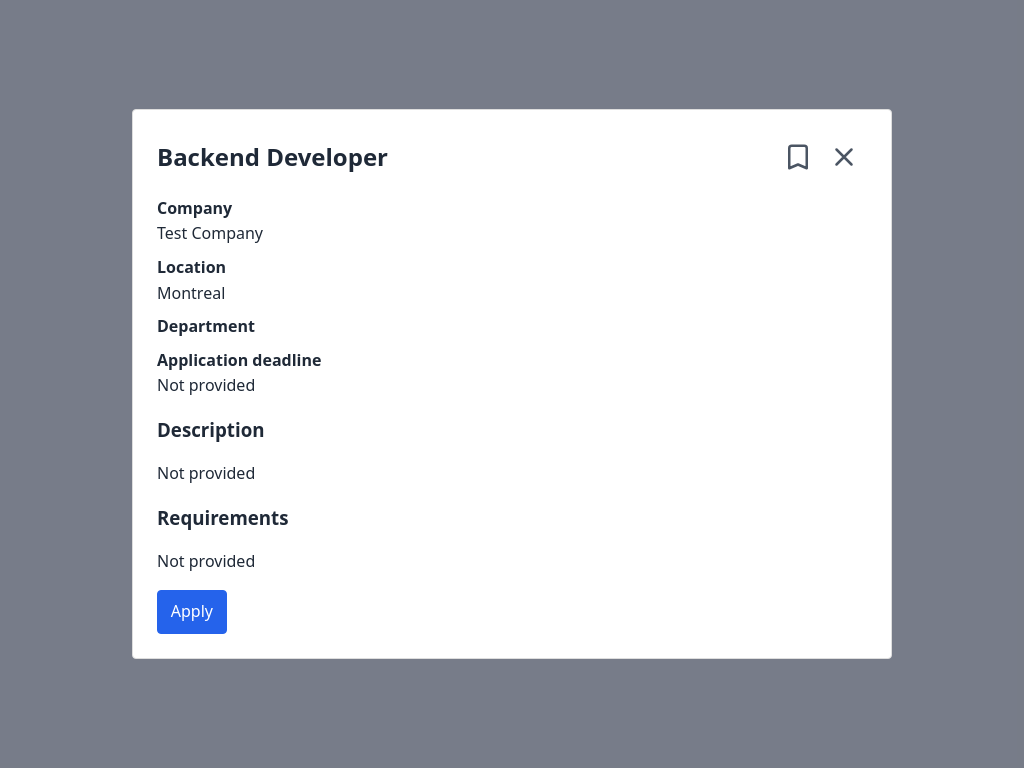
Test: Saved jobs acceptance tests › saves a job and keeps the confirmed bookmark state
The image size is (1024, 768).
Expected: the heading "Backend Developer" is shown, x1=157 y1=138 x2=388 y2=176
What coordinates should you click on to do the following:
click the button named "bookmark"
I would click on:
 (798, 157)
Its box is x1=775 y1=134 x2=821 y2=180.
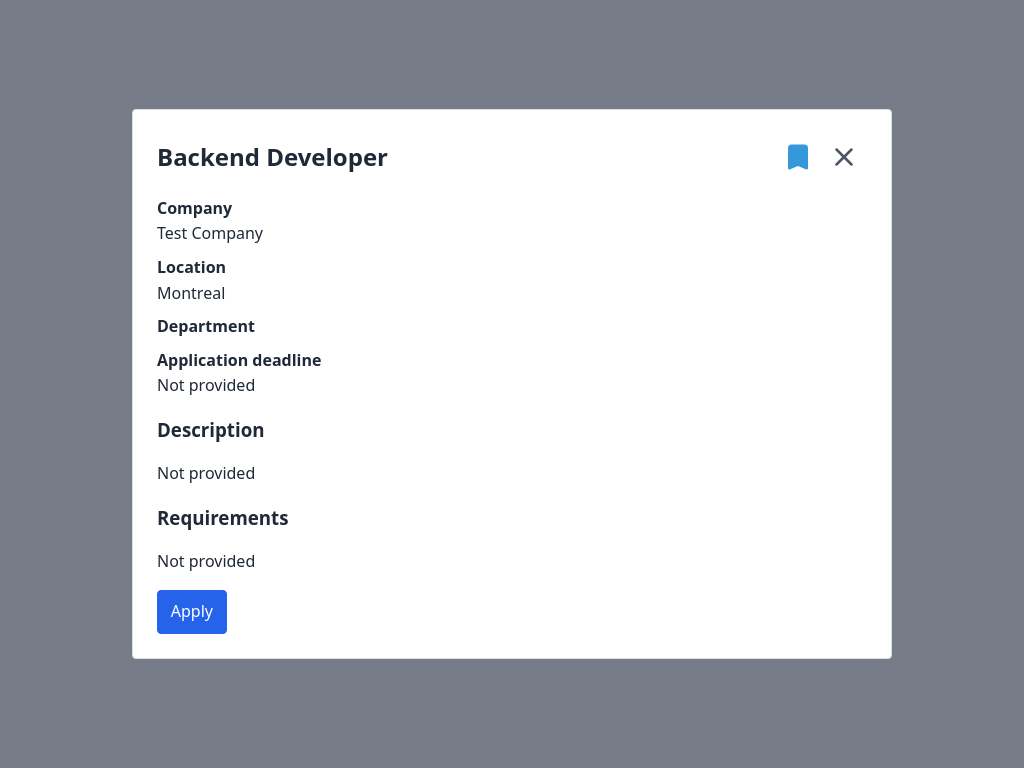
Expected: the button named "bookmark" has class "filled", x1=775 y1=134 x2=821 y2=180
